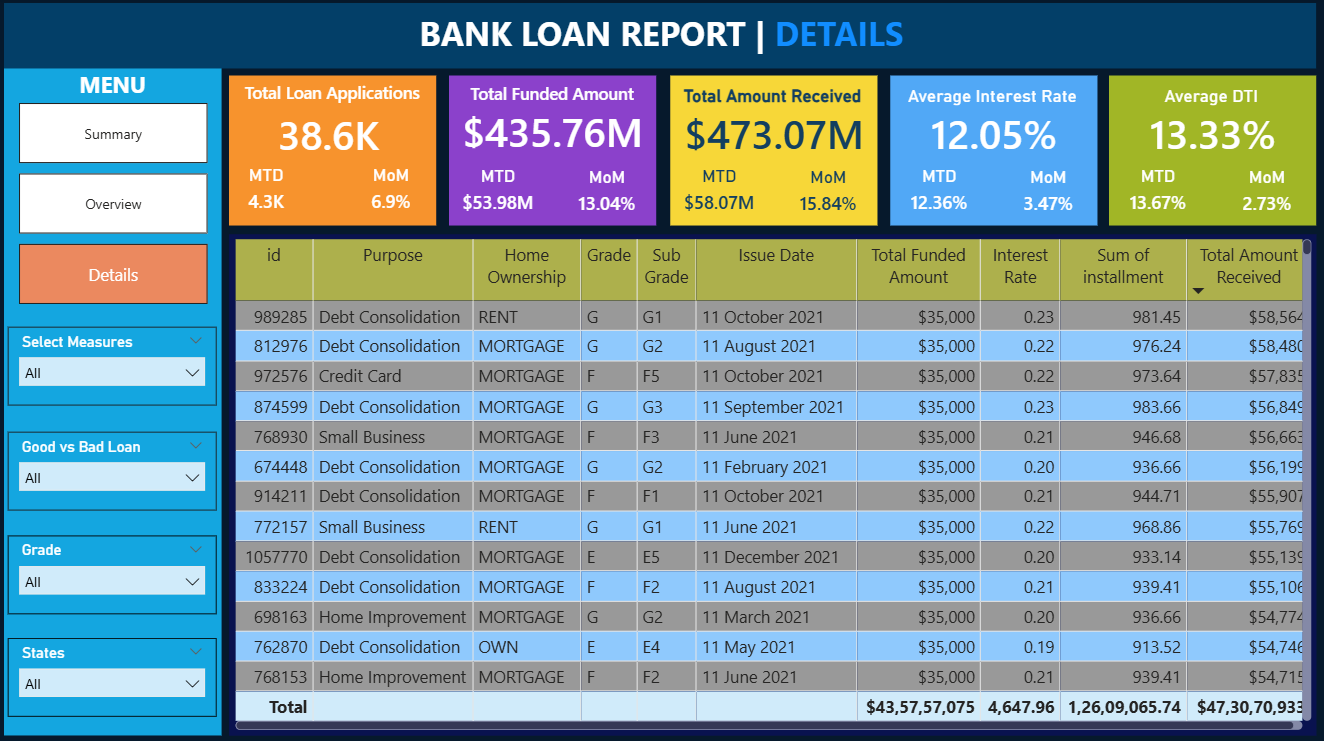

This screenshot's page, from the dashboard's own definition file:
{"tool":"powerbi","page":{"name":"Details","canvas":[1280,720],"ordinal":2},"visuals":[{"type":"shape","box":[4.3,4.3,210,707],"z":0},{"type":"group","id":"g1","title":"Total Amount Received","box":[222,74.6,200,145],"z":0,"group":"g4"},{"type":"shape","box":[222,74.6,200,145],"z":0,"group":"g1"},{"type":"shape","box":[434.3,74.6,200,145],"z":0,"group":"g2"},{"type":"shape","box":[648.5,74.6,200,145],"z":0,"group":"g3"},{"type":"shape","box":[860.2,74.6,200,145],"z":0,"group":"g5"},{"type":"shape","box":[1071.6,74.6,200,145],"z":0,"group":"g6"},{"type":"shape","box":[4.3,4.3,1266.7,63.5],"z":1000},{"type":"group","id":"g2","title":"Total Funded Amount","box":[434.3,74.6,200,145],"z":1000,"group":"g4"},{"type":"card","fields":{"Values":["KPI measure.Total Funded Amount"]},"box":[440.1,107.6,188.3,42.4],"z":1000,"group":"g2"},{"type":"card","fields":{"Values":["KPI measure.Total Amount Received"]},"box":[654.1,108.4,188.8,43.7],"z":1000,"group":"g3"},{"type":"card","fields":{"Values":["KPI measure.Avg Interest Rate"]},"box":[865.8,108.4,188.8,43.7],"z":1000,"group":"g5"},{"type":"card","fields":{"Values":["KPI measure.Average DTI"]},"box":[1077.2,108.4,188.8,43.7],"z":1000,"group":"g6"},{"type":"card","fields":{"Values":["KPI measure.Total Loan Applications"]},"box":[248.9,111.1,139.2,41.3],"z":1000,"group":"g1"},{"type":"textbox","box":[373.7,7.2,530.9,53.4],"z":2000},{"type":"group","id":"g3","title":"Total Amount Received","box":[648.5,74.6,200.3,145],"z":2000,"group":"g4"},{"type":"textbox","box":[226.8,75.1,189.4,32.6],"z":2000,"group":"g1"},{"type":"textbox","box":[438.7,76.3,189.4,38.6],"z":2000,"group":"g2"},{"type":"textbox","title":"Total Amount Received","box":[652.7,84.5,190.2,16.9],"z":2000,"group":"g3"},{"type":"textbox","title":"Average Interest Rate","box":[864.4,84.5,190.2,24],"z":2000,"group":"g5"},{"type":"textbox","title":"Average DTI","box":[1075.8,84.5,190.2,24],"z":2000,"group":"g6"},{"type":"group","id":"g4","title":"KPIs","box":[222,74.6,1049.9,145],"z":3000},{"type":"group","id":"g5","title":"Average Interest RAte","box":[860.2,74.6,200.3,145],"z":3000,"group":"g4"},{"type":"card","title":"MTD","fields":{"Values":["KPI measure.MTD Loan Applications"]},"box":[231.4,160.7,52.6,55.4],"z":3000,"group":"g1"},{"type":"card","title":"MTD","fields":{"Values":["KPI measure.MTD Total Funded Amount"]},"box":[435.5,161.8,92.4,55.4],"z":3000,"group":"g2"},{"type":"card","title":"MTD","fields":{"Values":["KPI measure.MTD Total Amount Received"]},"box":[649.7,161.8,92.4,55.4],"z":3000,"group":"g3"},{"type":"card","title":"MTD","fields":{"Values":["KPI measure.MTD Average Interest Rate"]},"box":[861.4,161.8,92.4,55.4],"z":3000,"group":"g5"},{"type":"card","title":"MTD","fields":{"Values":["KPI measure.MTD Average DTI"]},"box":[1072.8,161.8,92.4,55.4],"z":3000,"group":"g6"},{"type":"group","id":"g6","title":"Average DTI","box":[1071.6,74.6,200.3,145],"z":4000,"group":"g4"},{"type":"card","title":"MoM","fields":{"Values":["KPI measure.MoM Loan Applications"]},"box":[347.1,160.7,62,55.4],"z":4000,"group":"g1"},{"type":"card","title":"MoM","fields":{"Values":["KPI measure.MoM Funded Amount"]},"box":[549.3,162.1,76,55.4],"z":4000,"group":"g2"},{"type":"card","title":"MoM","fields":{"Values":["KPI measure.MoM Amount Received"]},"box":[763.5,162.1,76,55.4],"z":4000,"group":"g3"},{"type":"card","title":"MoM","fields":{"Values":["KPI measure.MoM Average Interest Rate"]},"box":[975.2,162.1,76,55.4],"z":4000,"group":"g5"},{"type":"card","title":"MoM","fields":{"Values":["KPI measure.MoM Average DTI"]},"box":[1186.6,162.1,76,55.4],"z":4000,"group":"g6"},{"type":"slicer","fields":{"Values":["financial_loan.address_state"]},"box":[8.4,617.7,201.5,76],"z":4000},{"type":"slicer","fields":{"Values":["financial_loan.grade"]},"box":[8.4,518.8,201.5,76],"z":5000},{"type":"slicer","fields":{"Values":["financial_loan.Good vs Bad Loan"]},"box":[8.4,418.6,201.5,76],"z":6000},{"type":"slicer","fields":{"Values":["Select Measures.Select Measures"]},"box":[8.4,317.3,201.5,76],"z":7000},{"type":"tableEx","fields":{"Values":["financial_loan.id","financial_loan.purpose","financial_loan.home_ownership","financial_loan.grade","financial_loan.sub_grade","financial_loan.issue_date","KPI measure.Total Funded Amount","Sum(financial_loan.int_rate)","Sum(financial_loan.installment)","KPI measure.Total Amount Received"]},"box":[222,228,1049.6,483.8],"z":8000},{"type":"pageNavigator","box":[19.3,101.3,182.2,194.2],"z":9000},{"type":"textbox","box":[55.5,63.9,108.6,41],"z":10000}]}

Visuals, with their boxes in screenshot pixels (x1, y1, x2, y2), scaled from the page's 1280x720 canvas onto the 1324x741 screenshot:
shape: Rect(4, 4, 222, 732)
"Total Amount Received" group: Rect(230, 77, 437, 226)
shape: Rect(230, 77, 437, 226)
shape: Rect(449, 77, 656, 226)
shape: Rect(671, 77, 878, 226)
shape: Rect(890, 77, 1097, 226)
shape: Rect(1108, 77, 1315, 226)
shape: Rect(4, 4, 1315, 70)
"Total Funded Amount" group: Rect(449, 77, 656, 226)
card - KPI measure.Total Funded Amount: Rect(455, 111, 650, 154)
card - KPI measure.Total Amount Received: Rect(677, 112, 872, 157)
card - KPI measure.Avg Interest Rate: Rect(896, 112, 1091, 157)
card - KPI measure.Average DTI: Rect(1114, 112, 1310, 157)
card - KPI measure.Total Loan Applications: Rect(257, 114, 401, 157)
textbox: Rect(387, 7, 936, 62)
"Total Amount Received" group: Rect(671, 77, 878, 226)
textbox: Rect(235, 77, 431, 111)
textbox: Rect(454, 79, 650, 118)
"Total Amount Received" textbox: Rect(675, 87, 872, 104)
"Average Interest Rate" textbox: Rect(894, 87, 1091, 112)
"Average DTI" textbox: Rect(1113, 87, 1310, 112)
"KPIs" group: Rect(230, 77, 1316, 226)
"Average Interest RAte" group: Rect(890, 77, 1097, 226)
"MTD" card: Rect(239, 165, 294, 222)
"MTD" card: Rect(450, 167, 546, 224)
"MTD" card: Rect(672, 167, 768, 224)
"MTD" card: Rect(891, 167, 987, 224)
"MTD" card: Rect(1110, 167, 1205, 224)
"Average DTI" group: Rect(1108, 77, 1316, 226)
"MoM" card: Rect(359, 165, 423, 222)
"MoM" card: Rect(568, 167, 647, 224)
"MoM" card: Rect(790, 167, 868, 224)
"MoM" card: Rect(1009, 167, 1087, 224)
"MoM" card: Rect(1227, 167, 1306, 224)
slicer - financial_loan.address_state: Rect(9, 636, 217, 714)
slicer - financial_loan.grade: Rect(9, 534, 217, 612)
slicer - financial_loan.Good vs Bad Loan: Rect(9, 431, 217, 509)
slicer - Select Measures.Select Measures: Rect(9, 327, 217, 405)
tableEx - financial_loan.id x financial_loan.purpose: Rect(230, 235, 1315, 733)
pageNavigator: Rect(20, 104, 208, 304)
textbox: Rect(57, 66, 170, 108)
